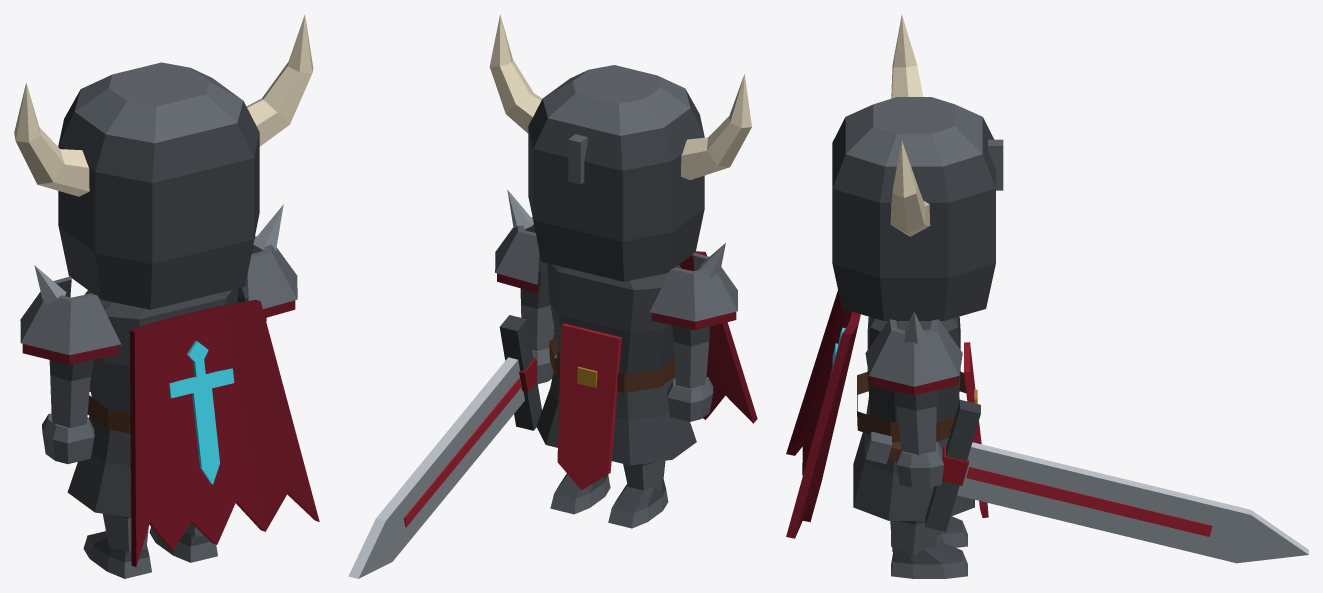
File: CH_BloodKnight.fbx
3 renders of one model, left to right at view 1: azimuth 30°, elevation 25°; view 2: azimuth 150°, elevation 25°; view 3: azimuth 270°, elevation 25°, orthographic. The views are drawn at different scales.
Visible parts, largest first — view 1: Body, Head, ArmL, LegL, LegR; view 2: Head, Body, ArmR, ArmL, LegL, LegR; view 3: Head, ArmR, Body, LegR, LegL.
Boxes of the visible parts, x1,y1,x2,y2 form: Body: [20, 204, 319, 566]; Head: [14, 15, 313, 309]; ArmL: [42, 359, 94, 463]; LegL: [83, 513, 151, 578]; LegR: [149, 522, 217, 562]; Head: [489, 14, 751, 281]; Body: [495, 189, 757, 489]; ArmR: [348, 253, 556, 578]; ArmL: [667, 325, 713, 421]; LegL: [608, 461, 668, 528]; LegR: [550, 473, 610, 514]; Head: [832, 14, 1003, 320]; ArmR: [865, 390, 1308, 563]; Body: [786, 290, 988, 538]; LegR: [890, 521, 967, 578]; LegL: [891, 516, 967, 547].
Bounding box in the file's own units: 1.1 × 1.81 × 1.82.
